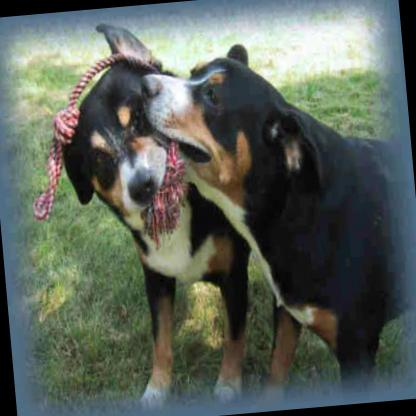EntleBucher: (139, 30, 416, 408), (48, 11, 260, 415)
